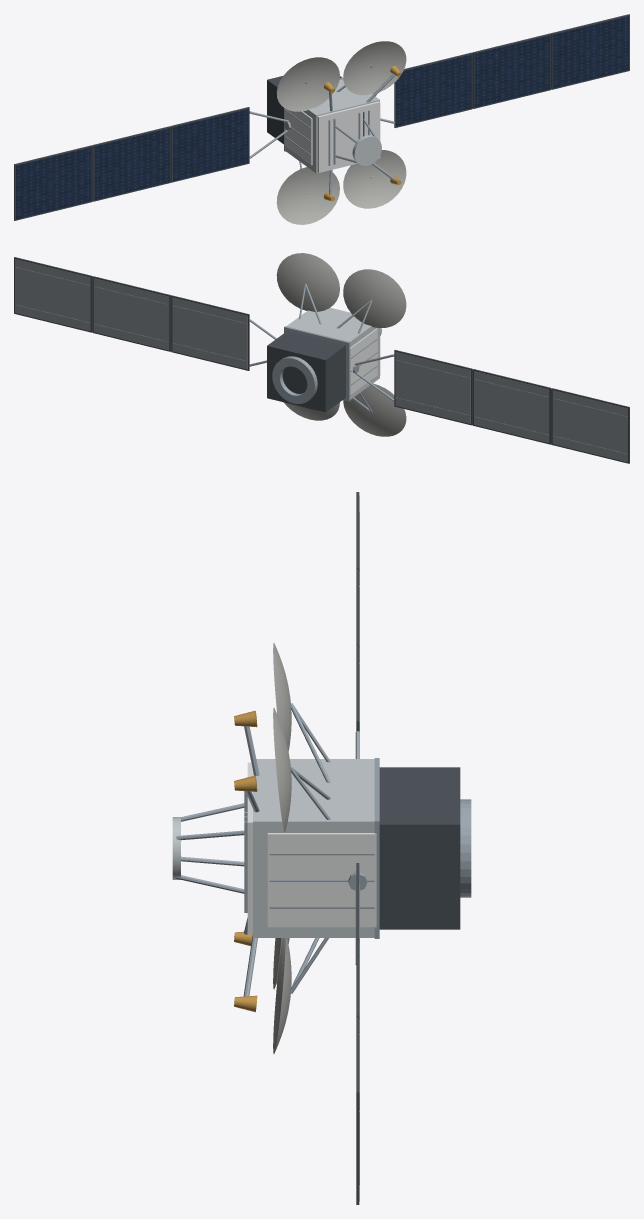
File: maxar-1300-horizons-4.glb
3 views of the same model, one above another, from view 1: azimuth 30°, elevation 25°; view 2: azimuth 150°, elevation 25°; view 3: azimuth 270°, elevation 25° (orthographic). The views are drawn at different scales.
Parts seen in each view (by area): view 1: Solar cell panel (×6), Communications reflector (×4), Solar panel frame (×6), Earth-facing deck, Payload module, Radiator face, Service module, Antenna tower platform; view 2: Rear array substrate (×6), Communications reflector (×4), Service module, Solar panel frame (×6), Payload module, Radiator face, Launch adapter ring, Module interface; view 3: Service module, Payload module, Radiator face, Communications reflector (×3), Launch adapter ring.
Boxes of the visible parts, x1,y1,x2,y2 form: Solar cell panel (×6): [16, 16, 628, 219]; Communications reflector (×4): [276, 41, 406, 224]; Solar panel frame (×6): [14, 14, 629, 220]; Earth-facing deck: [317, 101, 380, 172]; Payload module: [285, 79, 379, 173]; Radiator face: [284, 108, 312, 165]; Service module: [267, 76, 342, 144]; Antenna tower platform: [352, 135, 381, 165]; Rear array substrate (×6): [15, 259, 627, 462]; Communications reflector (×4): [276, 253, 406, 436]; Service module: [267, 331, 345, 412]; Solar panel frame (×6): [14, 257, 629, 463]; Payload module: [286, 308, 379, 399]; Radiator face: [349, 328, 377, 394]; Launch adapter ring: [272, 356, 317, 403]; Module interface: [284, 326, 350, 401]; Service module: [379, 767, 460, 929]; Payload module: [253, 759, 374, 937]; Radiator face: [267, 833, 376, 927]; Communications reflector (×3): [273, 643, 291, 1053]; Launch adapter ring: [460, 799, 471, 897].
Size of the model in its own units: 26.97 by 6.93 by 5.67.
8 materials, 1 textured.
